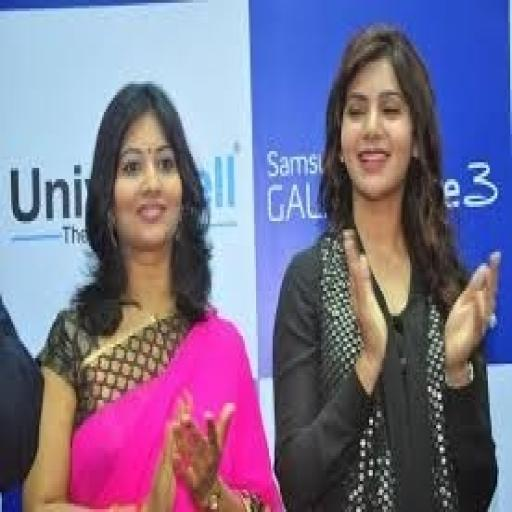clapping: (271, 22, 501, 510)
